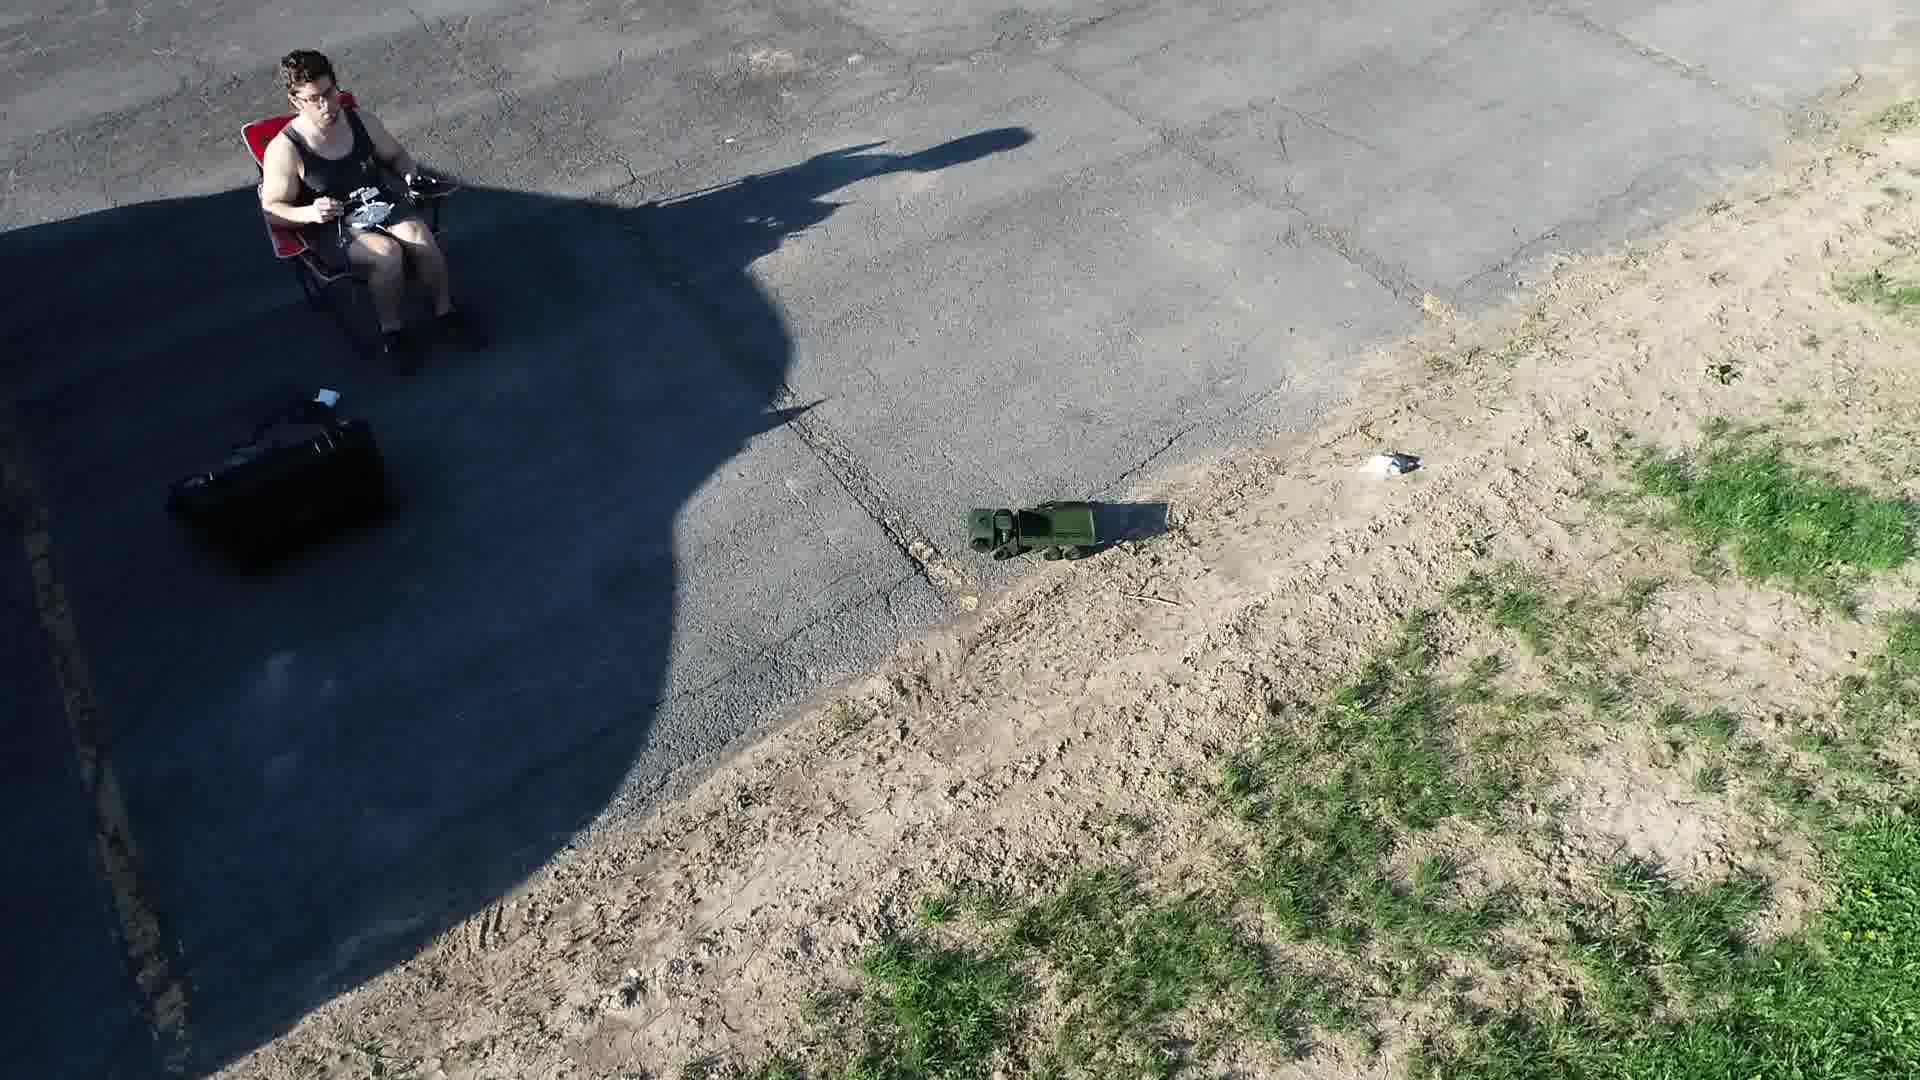transporter9: (959, 495, 1102, 563)
